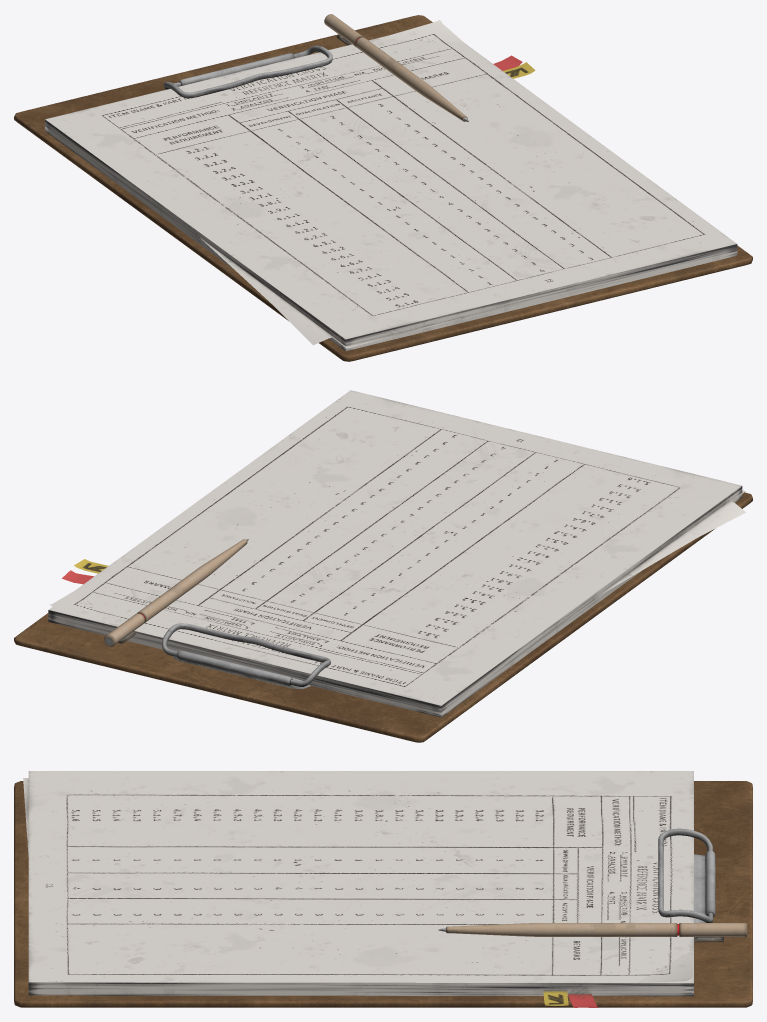
Rendered from document_clipboard.glb.
The picture shows the model from 3 angles, top to bottom: view 1: azimuth 30°, elevation 25°; view 2: azimuth 150°, elevation 25°; view 3: azimuth 270°, elevation 25°; orthographic projection. The views are drawn at different scales.
Parts seen in each view (by area): view 1: Paper, Tablet, Pen; view 2: Paper, Tablet, Pen; view 3: Paper, Tablet, Pen.
Boxes of the visible parts, bbox=[...] form: Paper: bbox=[45, 20, 737, 350]; Tablet: bbox=[14, 15, 752, 361]; Pen: bbox=[324, 14, 468, 121]; Paper: bbox=[48, 390, 746, 717]; Tablet: bbox=[14, 492, 752, 742]; Pen: bbox=[104, 539, 248, 646]; Paper: bbox=[23, 771, 693, 1007]; Tablet: bbox=[14, 781, 752, 1007]; Pen: bbox=[438, 923, 747, 942].
Size of the model in its own units: 0.2374 by 0.0155 by 0.31.
3 materials, 3 textured.
